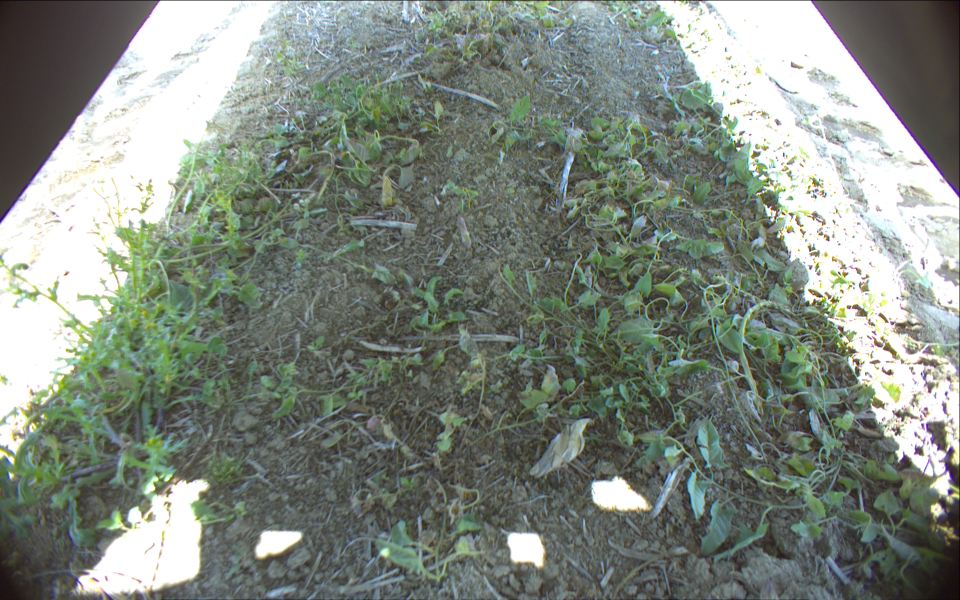aspa: (739, 300, 788, 397)
